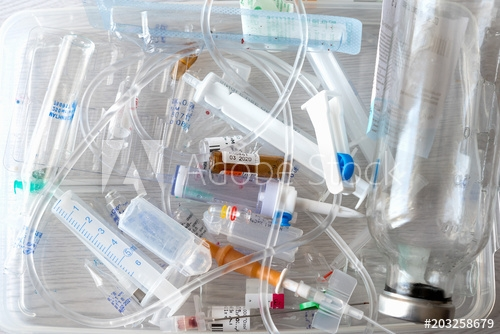glass: (358, 1, 500, 333)
plastic: (175, 66, 377, 205), (39, 180, 192, 319), (166, 163, 364, 219), (110, 194, 214, 279), (197, 207, 317, 265)
